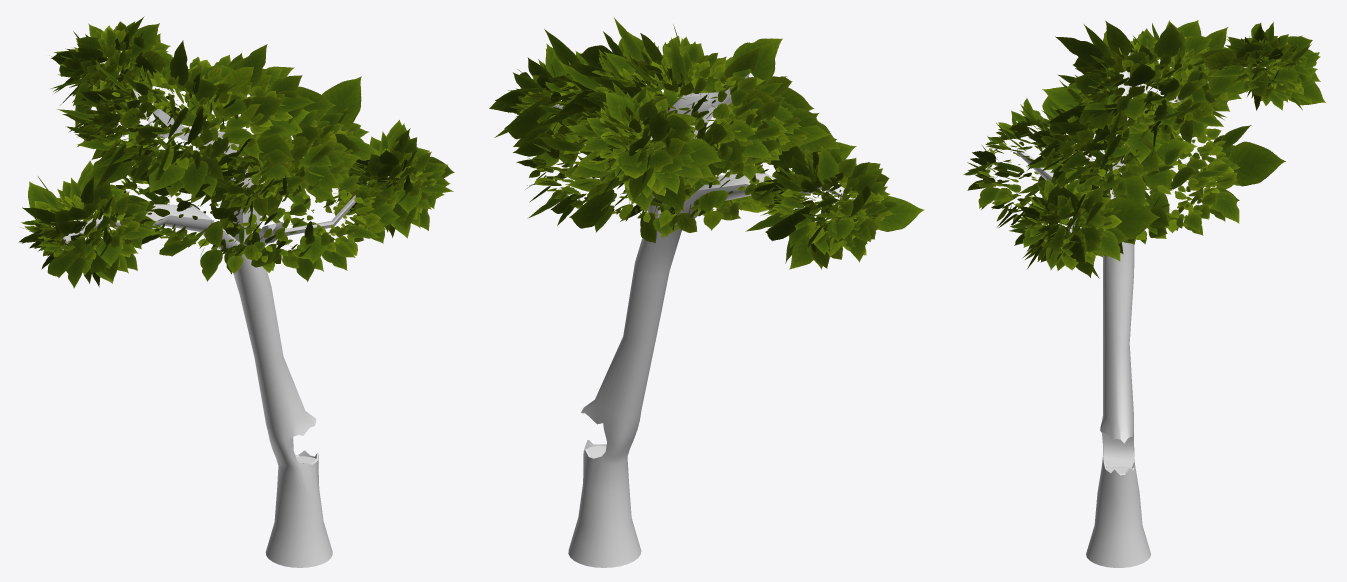
Rendered from Big-Fallen-Tree Naked0.3.fbx.
3 views of the same model, side by side, from view 1: azimuth 30°, elevation 25°; view 2: azimuth 150°, elevation 25°; view 3: azimuth 270°, elevation 25° (orthographic). The views are drawn at different scales.
Parts seen in each view (by area): view 1: Fallen Tree; view 2: Fallen Tree; view 3: Fallen Tree.
Part boxes in pixels (<box>): Fallen Tree: <box>18,16,454,567</box>; Fallen Tree: <box>489,17,924,567</box>; Fallen Tree: <box>963,20,1325,567</box>.
Size of the model in its own units: 2882 by 3497 by 2382.
